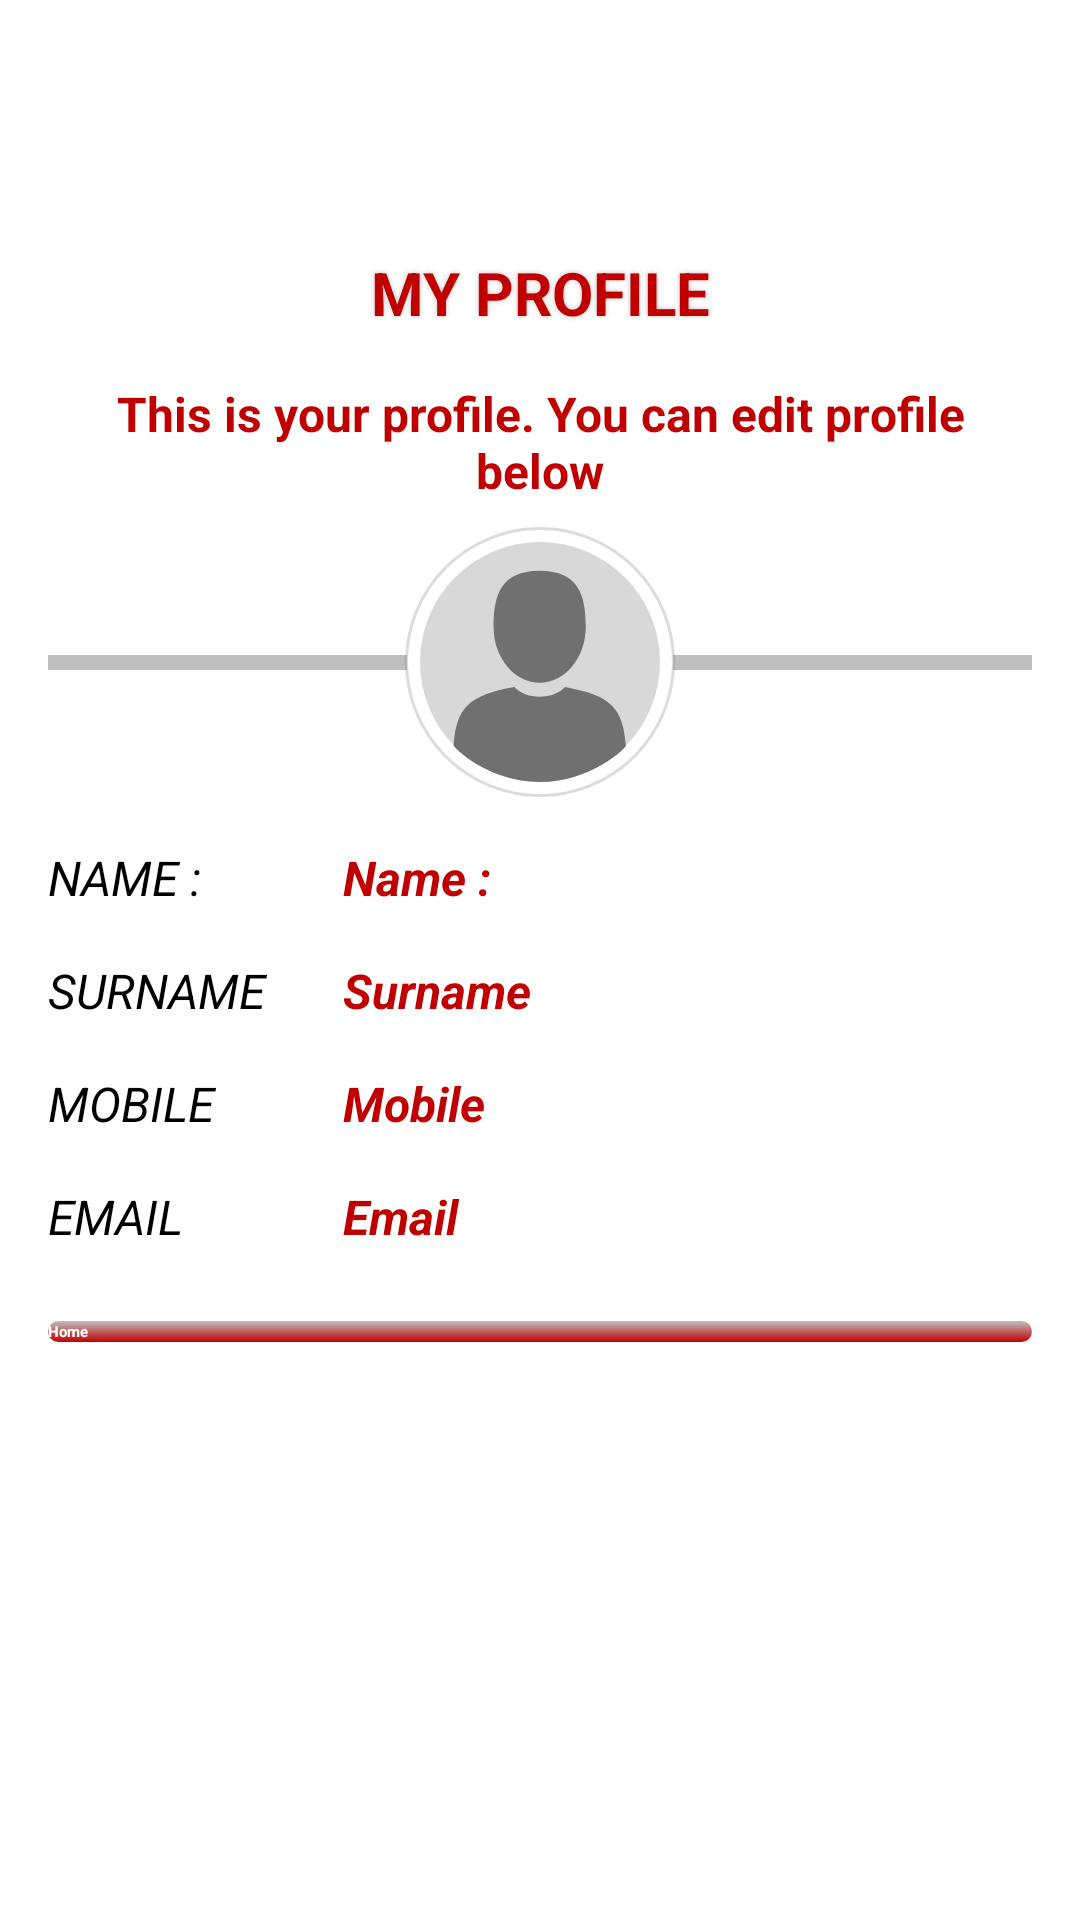

Named icons in this screenshot (1080w x 1920h) and their centers, point (x, y):
user: point (540, 662)
